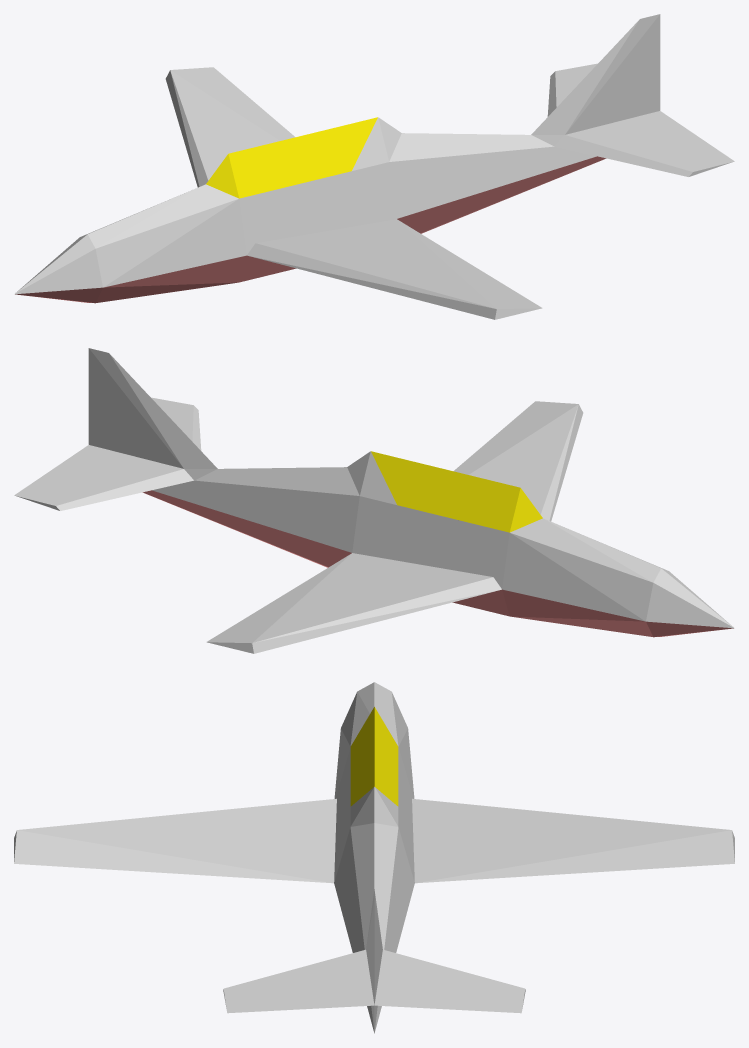
File: Stolen Messerschmitt Me 262.fbx
3 renders of one model, top to bottom at view 1: azimuth 30°, elevation 25°; view 2: azimuth 150°, elevation 25°; view 3: azimuth 270°, elevation 25°, orthographic. The views are drawn at different scales.
Visible parts, largest first — view 1: Stolen Messerschmitt Me 262; view 2: Stolen Messerschmitt Me 262; view 3: Stolen Messerschmitt Me 262.
Part boxes in pixels (x1=…): Stolen Messerschmitt Me 262: x1=14, y1=14, x2=734, y2=319; Stolen Messerschmitt Me 262: x1=14, y1=348, x2=734, y2=653; Stolen Messerschmitt Me 262: x1=14, y1=682, x2=734, y2=1033.
Bounding box in the file's own units: 1261 × 303 × 1100.
